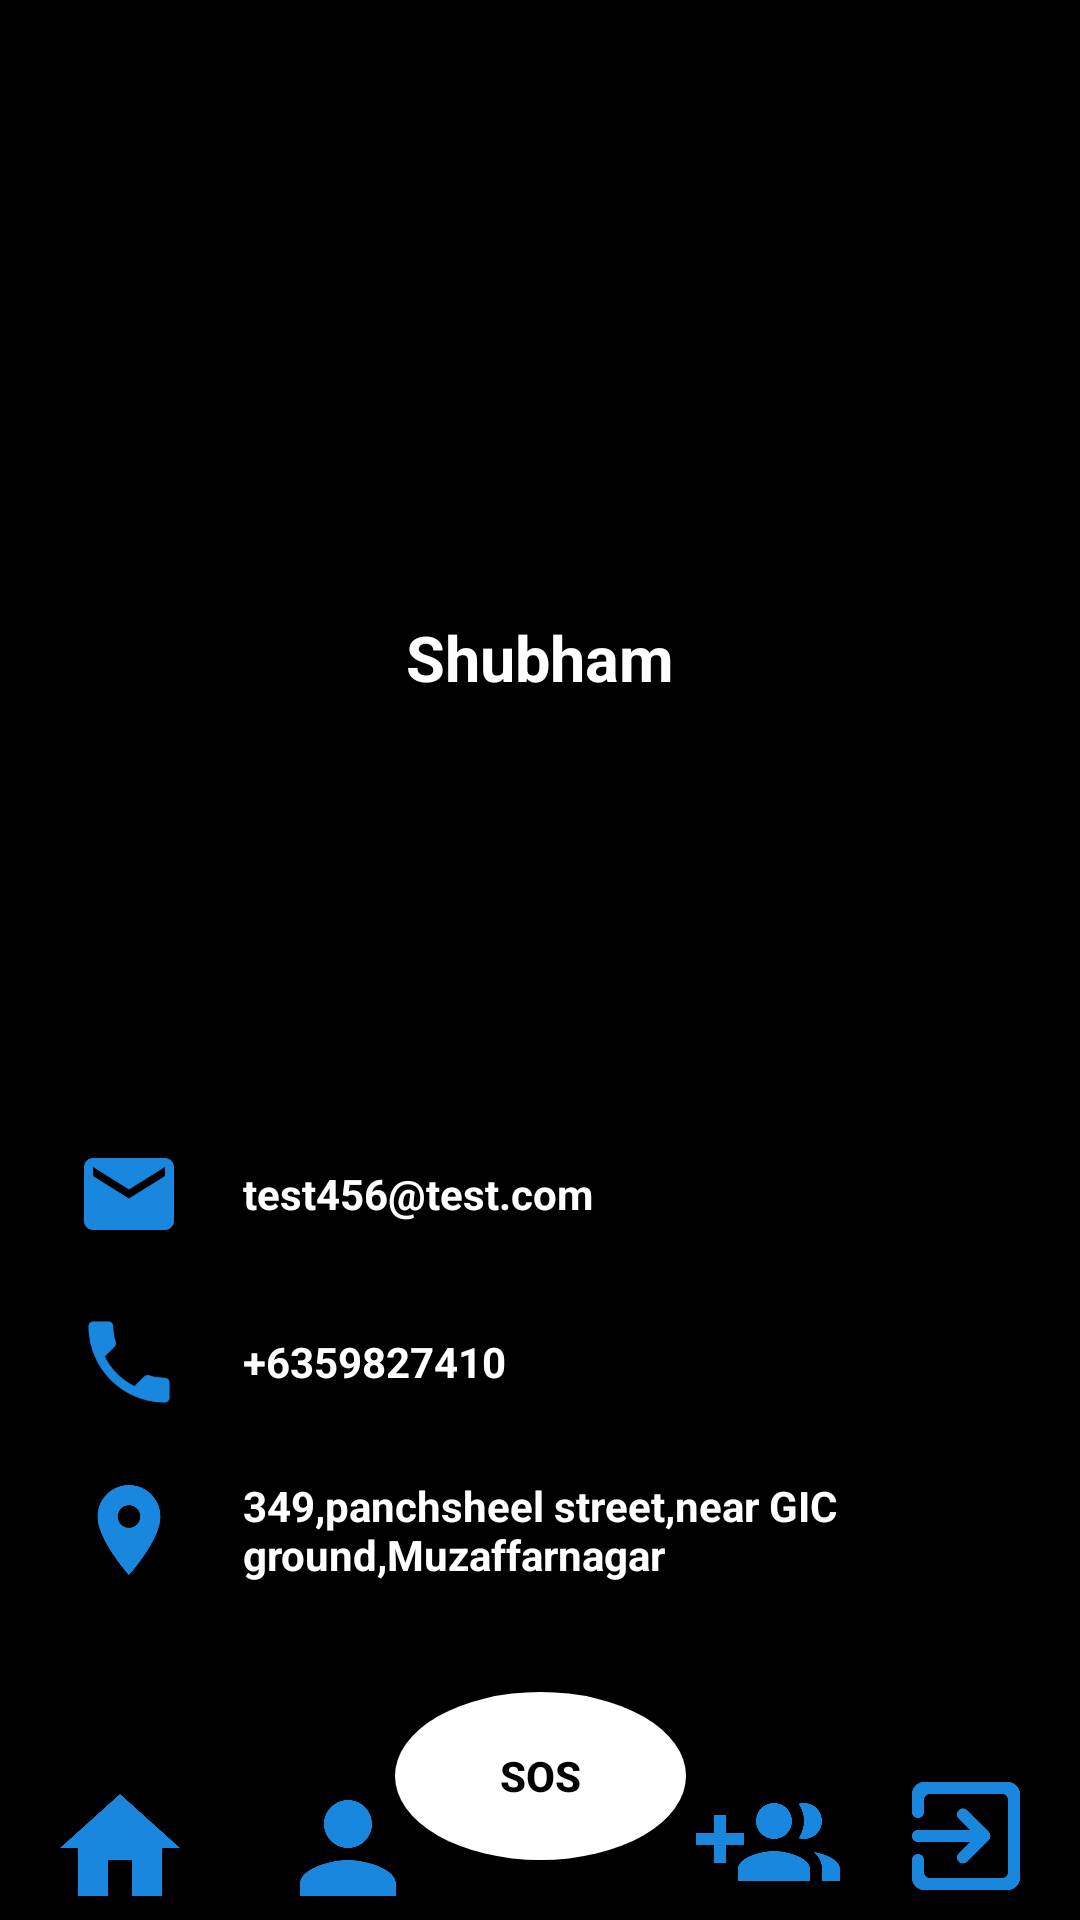

Icons on this 1080 x 1920 Android screen, each with its box as (x1, y1, x2, y2):
local phone: (88, 1321, 170, 1403)
location on: (97, 1485, 161, 1575)
profile email: (84, 1158, 174, 1230)
